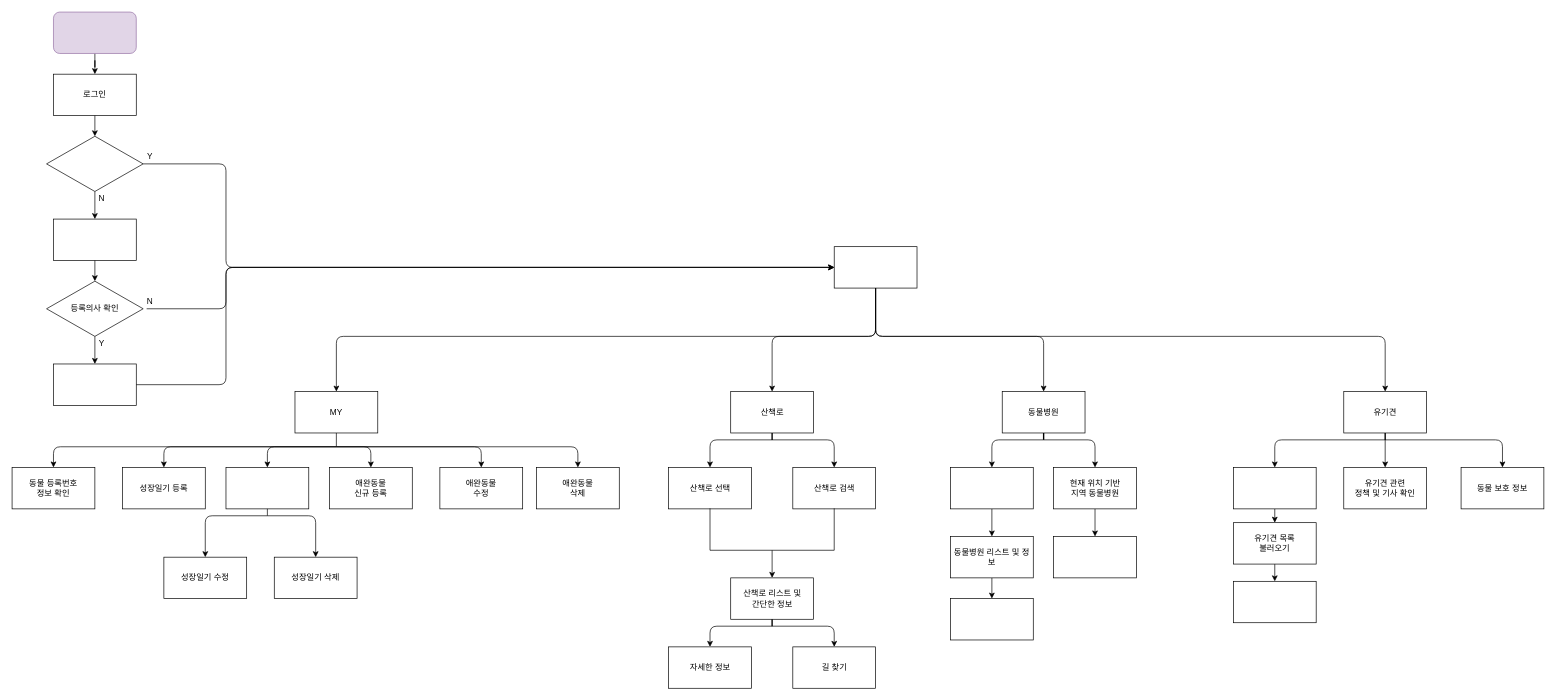
The diagram is 1556 pixels wide and 700 high, and some of its shapes have lost their labels. Here are the shapes that lost their labels. From the top down, the centre of each, then its label:
At pixel 94 32: "App 실행".
At pixel 94 163: "가입여부 판단".
At pixel 94 239: "회원가입".
At pixel 875 267: "메인화면".
At pixel 94 384: "애완동물 등록".
At pixel 267 488: "성장일기 상세화면".
At pixel 991 488: "동물병원 검색".
At pixel 1274 488: "유기견 찾기".
At pixel 1094 557: "지도에 동물병원 위치 및 리스트 출력".
At pixel 991 619: "리뷰 정보".
At pixel 1274 602: "유기견 정보 상세보기".
